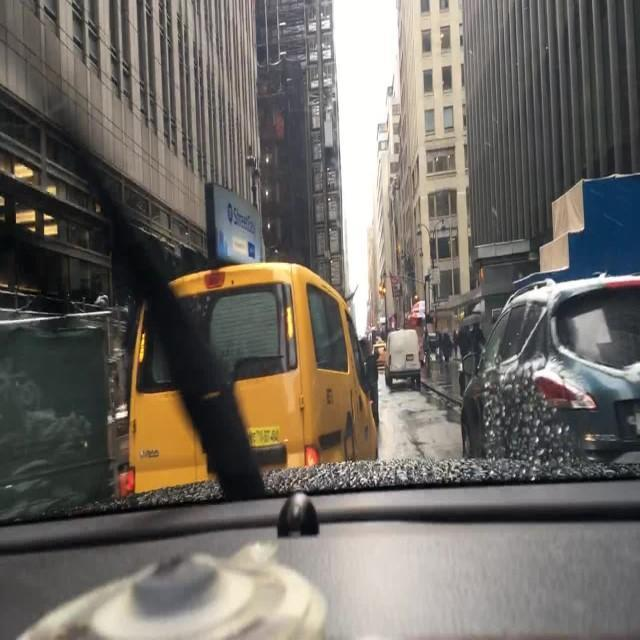normal: (83, 227, 393, 501), (440, 243, 640, 484)
